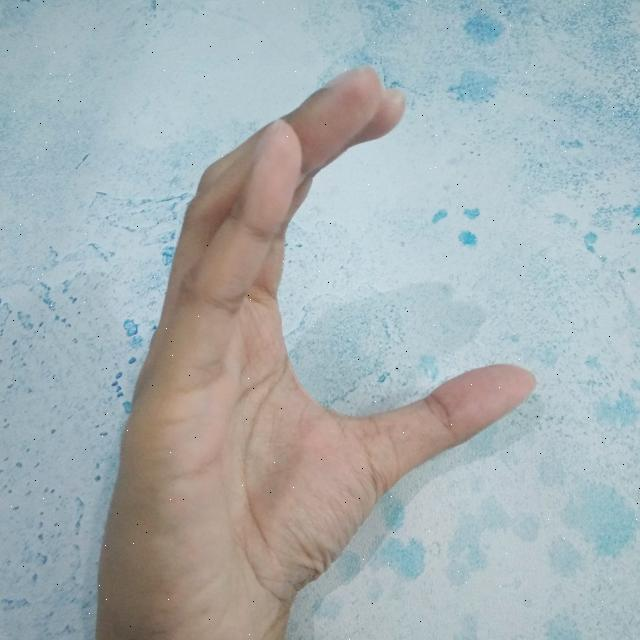C: (98, 64, 542, 640)
